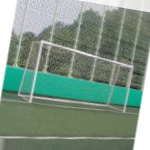goals: (17, 37, 135, 115)
